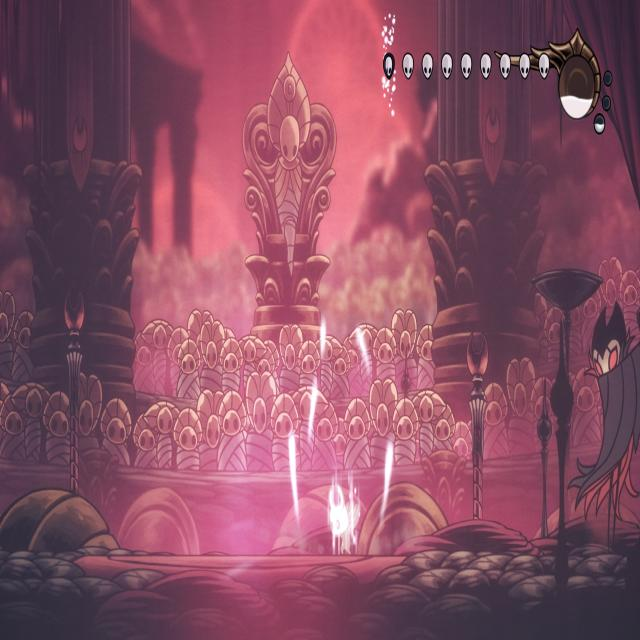Open Cloak: (562, 291, 640, 552)
Player: (326, 475, 361, 561)
